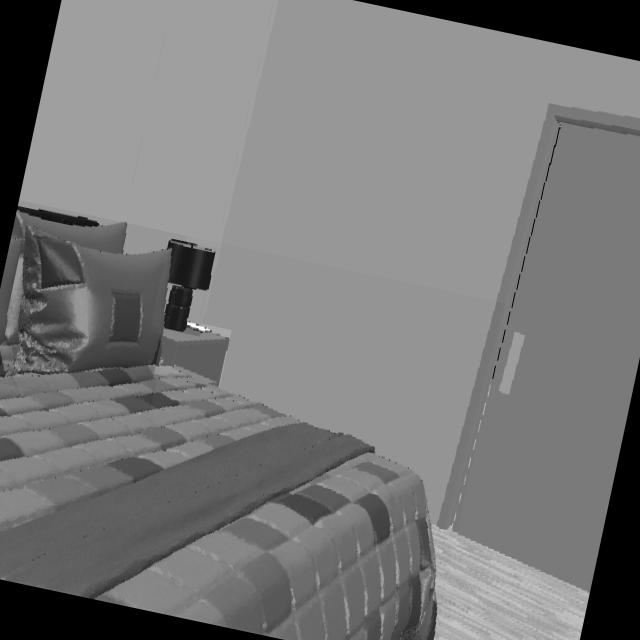bed: (0, 208, 438, 640)
lamp: (163, 239, 216, 333)
nighttable: (159, 322, 229, 385)
pillow: (0, 211, 172, 379)
